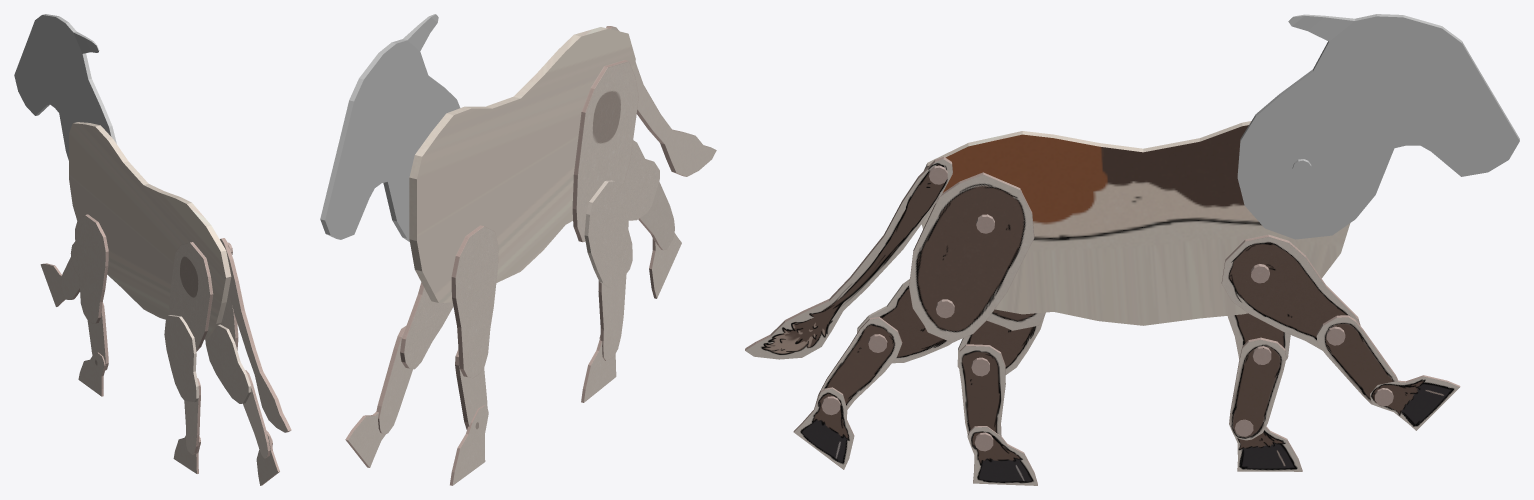
Rendered from Donkey Sad right.fbx.
3 views of the same model, side by side, from view 1: azimuth 30°, elevation 25°; view 2: azimuth 150°, elevation 25°; view 3: azimuth 270°, elevation 25° (orthographic). The views are drawn at different scales.
Parts seen in each view (by area): view 1: Donke Sad, Donke head.001, Donke leg F1.002, Donke Leg F1.002, Donke Tail.001, Donke Leg B2.002, Donke Leg B2.003, Plane.002, Plane.003, Donke Hoof F.002, Donke leg F2.002, Hoof B.003 (+4 smaller); view 2: Donke Sad, Donke head.001, Donke leg F1.002, Donke Leg F1.002, Donke Leg B2.002, Donke Tail.001, Donke Leg F1.003, Donke Leg B2.003, Donke leg F2.003, Plane.003, Donke Hoof F.002, Plane.002 (+4 smaller); view 3: Donke Sad, Donke head.001, Donke leg F1.003, Donke Leg F1.003, Donke Tail.001, Donke leg F2.002, Plane.002, Donke leg F2.003, Plane.003, Hoof B.002, Hoof B.003, Donke Hoof F.003 (+5 smaller).
Boxes of the visible parts, left/top/right/bottom form: Donke Sad: left=69, top=122, right=231, bottom=339; Donke head.001: left=14, top=14, right=116, bottom=160; Donke leg F1.002: left=169, top=242, right=213, bottom=351; Donke Leg F1.002: left=75, top=214, right=108, bottom=323; Donke Tail.001: left=220, top=238, right=291, bottom=432; Donke Leg B2.002: left=164, top=315, right=198, bottom=402; Donke Leg B2.003: left=205, top=324, right=251, bottom=403; Plane.002: left=243, top=370, right=270, bottom=458; Plane.003: left=184, top=378, right=200, bottom=454; Donke Hoof F.002: left=78, top=352, right=106, bottom=396; Donke leg F2.002: left=87, top=302, right=108, bottom=370; Hoof B.003: left=256, top=430, right=279, bottom=485; Donke Sad: left=409, top=27, right=635, bottom=302; Donke head.001: left=320, top=14, right=460, bottom=241; Donke leg F1.002: left=572, top=60, right=638, bottom=242; Donke Leg F1.002: left=451, top=225, right=498, bottom=378; Donke Leg B2.002: left=584, top=180, right=632, bottom=288; Donke Tail.001: left=606, top=26, right=716, bottom=176; Donke Leg F1.003: left=400, top=282, right=453, bottom=369; Donke Leg B2.003: left=624, top=140, right=659, bottom=220; Donke leg F2.003: left=376, top=325, right=412, bottom=434; Plane.003: left=598, top=274, right=626, bottom=360; Donke Hoof F.002: left=450, top=405, right=488, bottom=485; Plane.002: left=638, top=181, right=674, bottom=250; Donke Sad: left=921, top=121, right=1350, bottom=325; Donke head.001: left=1237, top=14, right=1519, bottom=239; Donke leg F1.003: left=909, top=172, right=1034, bottom=342; Donke Leg F1.003: left=1221, top=234, right=1360, bottom=350; Donke Tail.001: left=745, top=156, right=952, bottom=359; Donke leg F2.002: left=1229, top=337, right=1286, bottom=440; Plane.002: left=816, top=317, right=902, bottom=409; Donke leg F2.003: left=1316, top=315, right=1398, bottom=404; Plane.003: left=958, top=344, right=1005, bottom=436; Hoof B.002: left=967, top=426, right=1037, bottom=485; Hoof B.003: left=793, top=387, right=854, bottom=469; Donke Hoof F.003: left=1370, top=375, right=1460, bottom=430.
Bounding box in the file's own units: 13.41 × 151 × 220.
